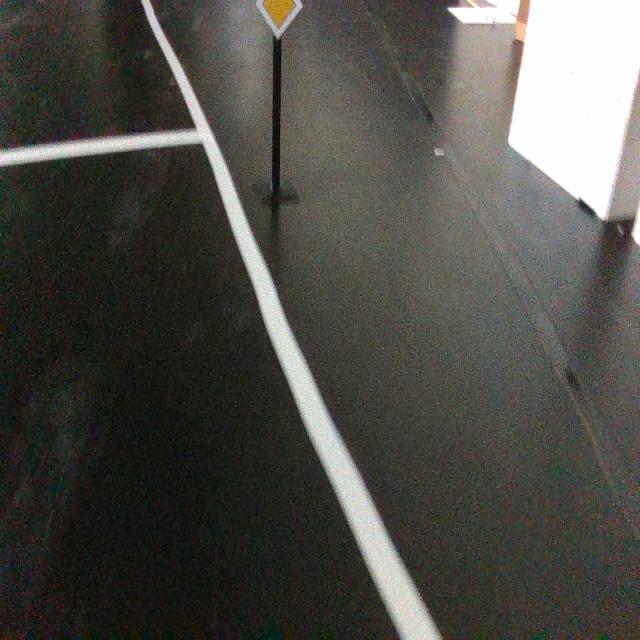priority-sign: (253, 0, 303, 41)
